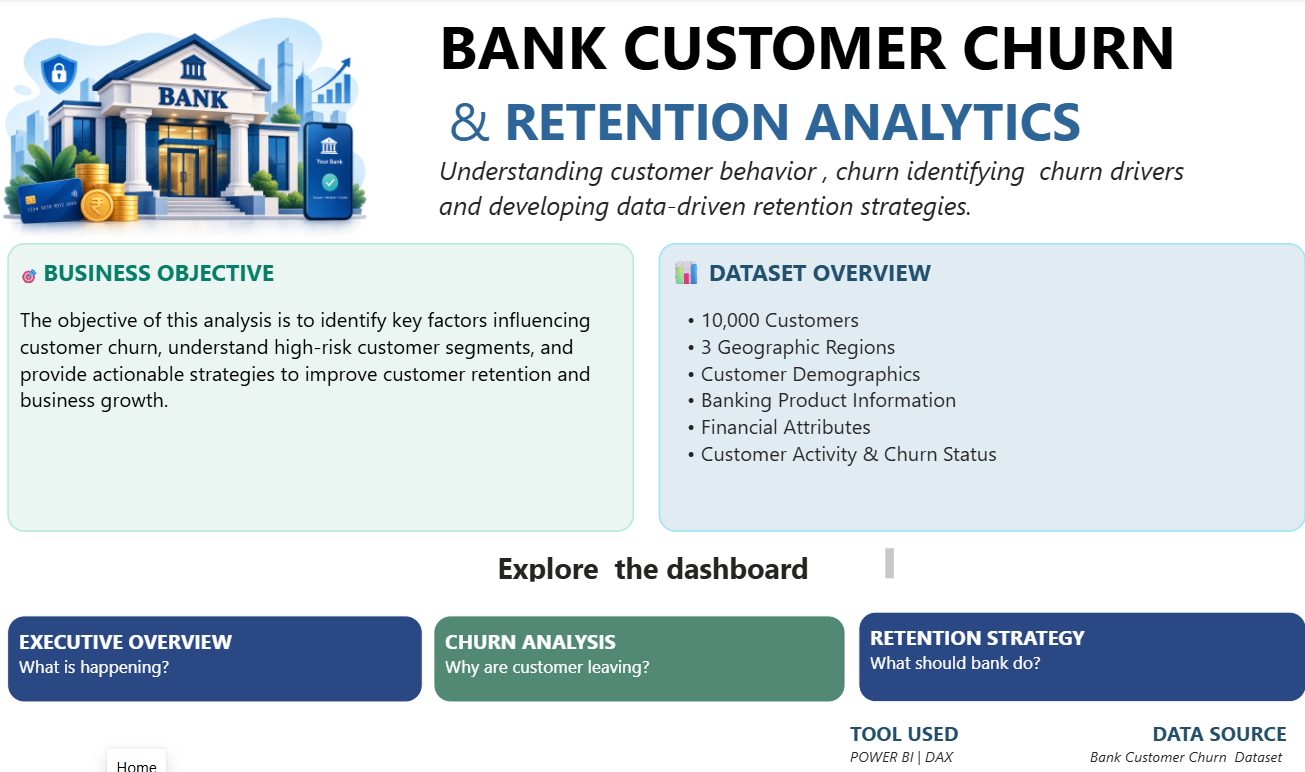

What the dashboard file says about the page in this screenshot:
{"tool":"powerbi","page":{"name":"Home","canvas":[1280,720],"ordinal":0},"visuals":[{"type":"textbox","box":[467.1,0,710.8,228.1],"z":0},{"type":"textbox","box":[70.8,228.1,583.6,269],"z":1000},{"type":"textbox","box":[677.2,228.1,602.8,269],"z":2000},{"type":"textbox","box":[850.1,666.4,429.9,54],"z":3000},{"type":"image","box":[15.6,0,441.9,228.1],"z":4000},{"type":"textbox","box":[522.3,506.7,378.2,40.8],"z":5000},{"type":"textbox","box":[70.8,574,386.6,80.5],"z":6000},{"type":"textbox","box":[467.1,574,383,80.5],"z":7000},{"type":"textbox","box":[863.3,570.4,416.7,84.1],"z":8000}]}

Visuals, with their boxes on the page's 1280x720 design canvas (x1, y1, x2, y2). These are canvas units, not pixel positions in the 1305x772 screenshot, which may show the page scaled, cropped or inside an application window:
textbox: 467/0/1178/228
textbox: 71/228/654/497
textbox: 677/228/1280/497
textbox: 850/666/1280/720
image: 16/0/458/228
textbox: 522/507/900/548
textbox: 71/574/457/654
textbox: 467/574/850/654
textbox: 863/570/1280/654
